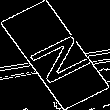N_NE: (16, 25, 94, 85)
